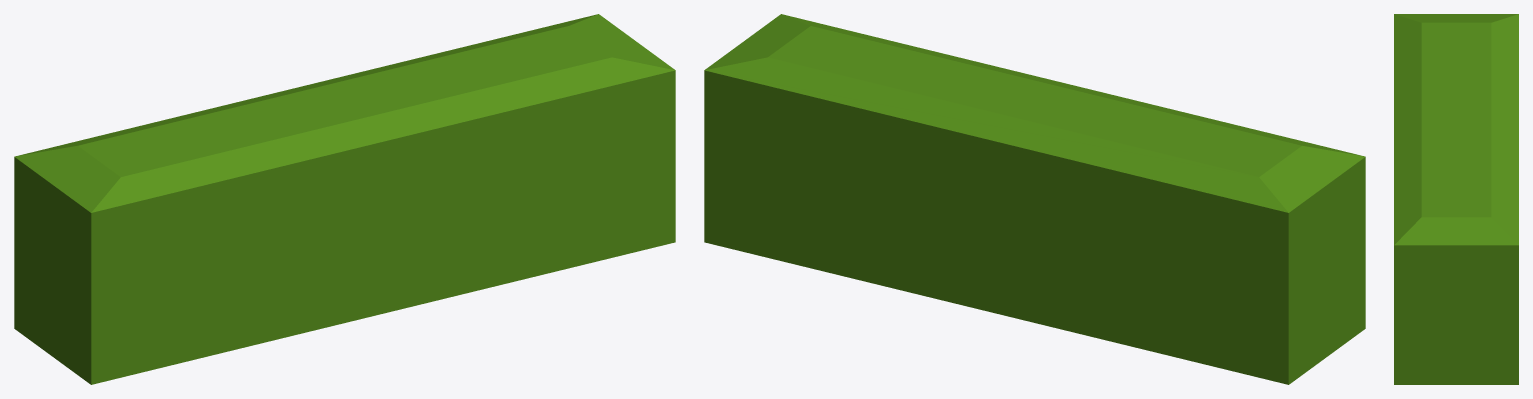
The picture shows the model from 3 angles, left to right: view 1: azimuth 30°, elevation 25°; view 2: azimuth 150°, elevation 25°; view 3: azimuth 270°, elevation 25°; orthographic projection. The views are drawn at different scales.
Parts seen in each view (by area): view 1: Arbusto; view 2: Arbusto; view 3: Arbusto.
Boxes of the visible parts, box(x1,y1,x2,y2) form: Arbusto: box(14, 14, 675, 384); Arbusto: box(704, 14, 1365, 384); Arbusto: box(1394, 14, 1518, 384).
Size of the model in its own units: 338 by 111 by 77.22.
